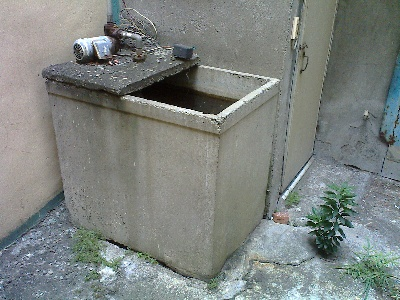box: (38, 26, 284, 281)
